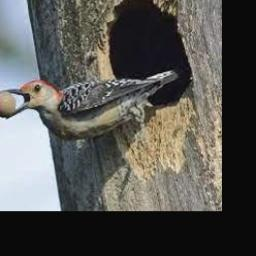Woodpecker: (0, 69, 179, 141)
